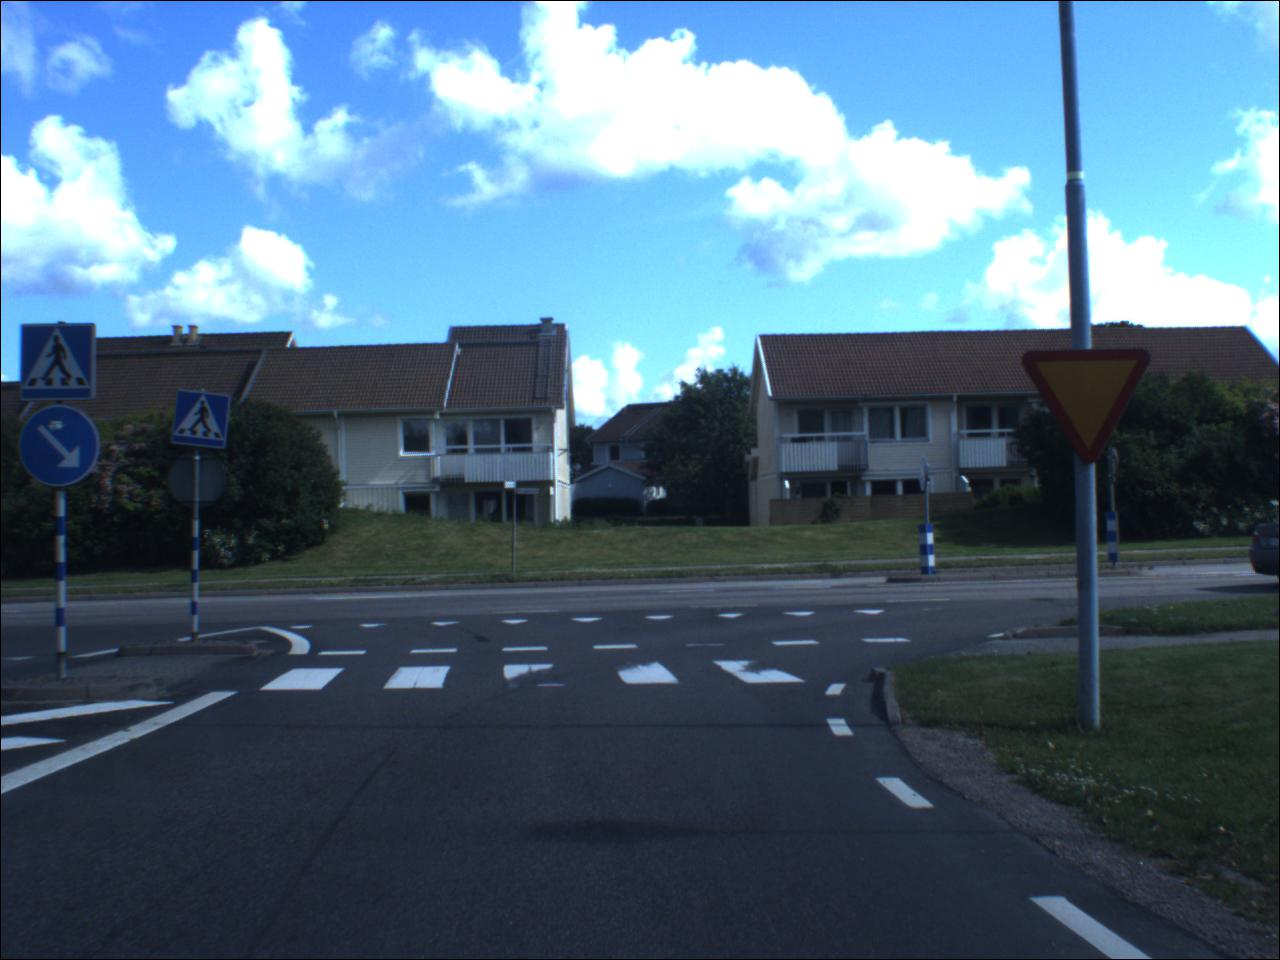GIVE_WAY: (1021, 348, 1153, 468)
PASS_RIGHT_SIDE: (23, 404, 104, 488), (921, 459, 929, 494)
PEDESTRIAN_CROSSING: (23, 325, 96, 400), (178, 391, 233, 452)
